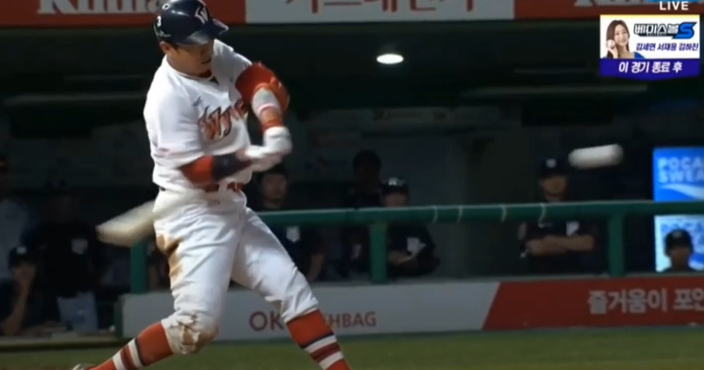ball: (569, 146, 621, 167)
